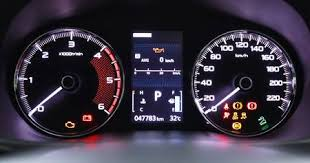Digital_Meter: (131, 113, 185, 124)
